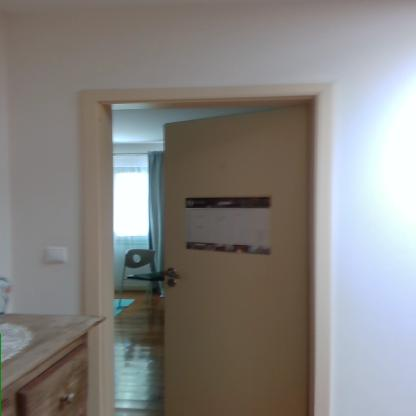semi: (68, 72, 344, 403)
